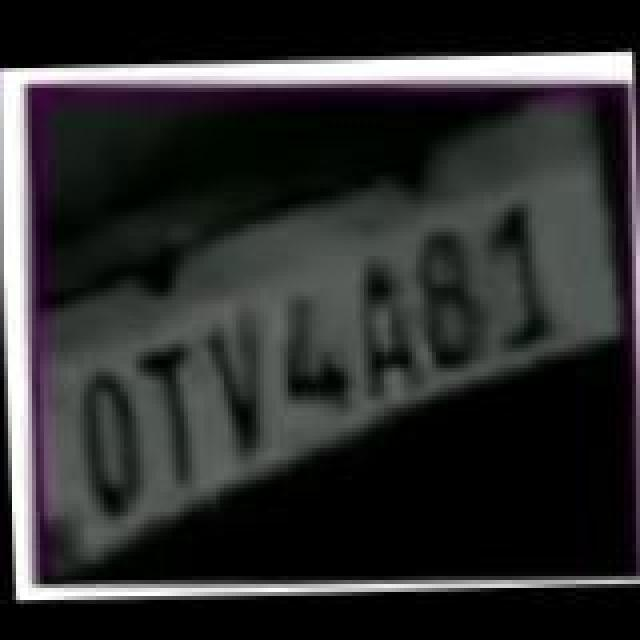1: (476, 194, 564, 354)
4: (266, 282, 354, 410)
8: (406, 218, 494, 370)
A: (346, 250, 426, 398)
O: (68, 366, 144, 522)
T: (136, 338, 212, 486)
V: (200, 306, 280, 462)
